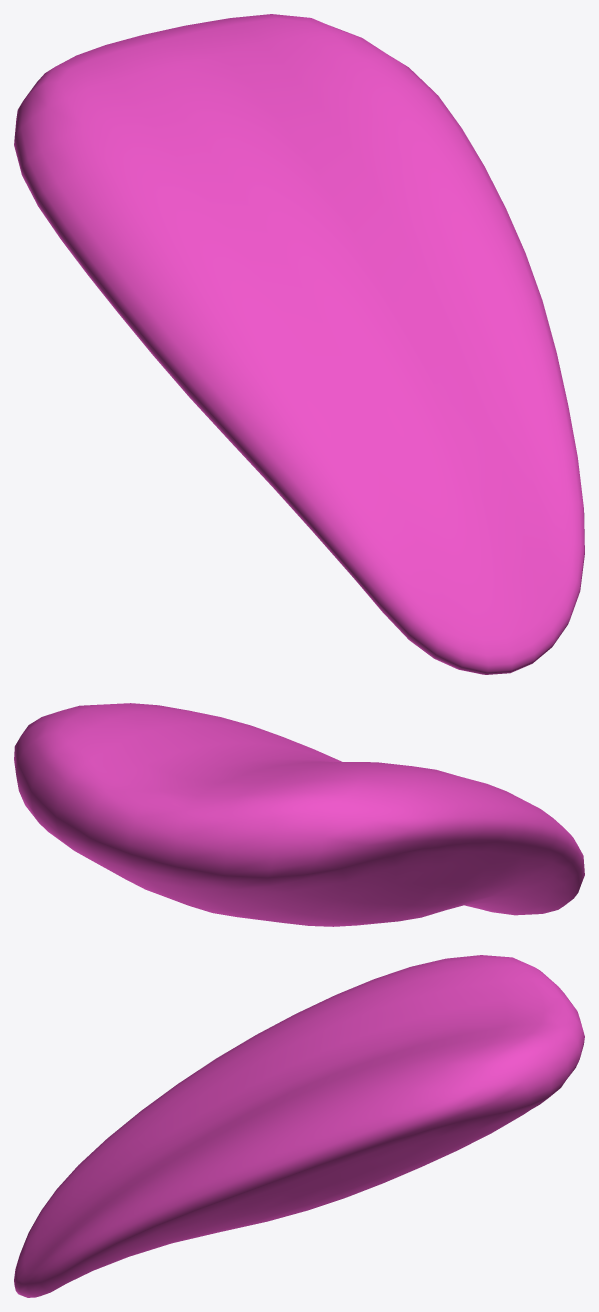
Rendered from lengua.fbx.
3 renders of one model, top to bottom at view 1: azimuth 30°, elevation 25°; view 2: azimuth 150°, elevation 25°; view 3: azimuth 270°, elevation 25°, orthographic. The views are drawn at different scales.
Visible parts, largest first — view 1: <SMD_root>; view 2: <SMD_root>; view 3: <SMD_root>.
Part boxes in pixels (<box>): <SMD_root>: <box>14,14,584,674</box>; <SMD_root>: <box>14,703,584,926</box>; <SMD_root>: <box>14,955,584,1297</box>.
Bounding box in the file's own units: 78.7 × 71.75 × 130.
